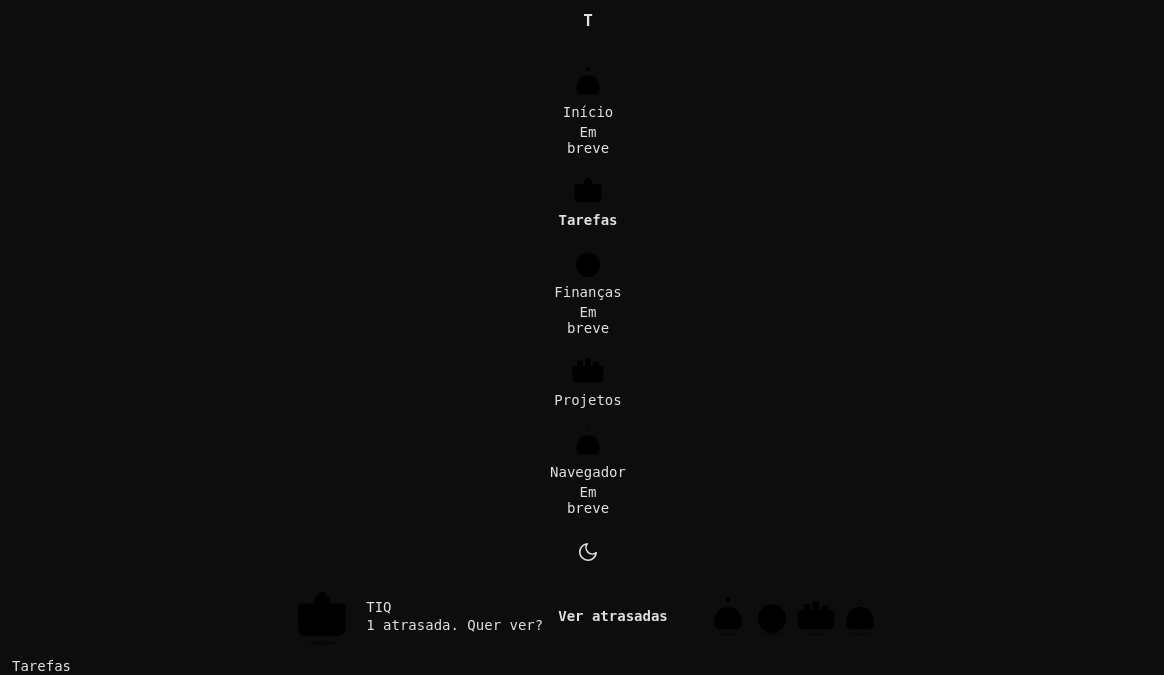
AppV3 › drives the island from the tasks data and falls back to the static phrase elsewhere
Expected: the message reads "1 atrasada. Quer ver?", [366,617,543,633]
Expected: the button "Ver atrasadas" is shown, [557,607,669,625]
What coordinates should you click on to do the following:
click the button with aria-label "Finanças, em breve"
I would click on:
 (588, 291)
Its box is [552,240,624,342].
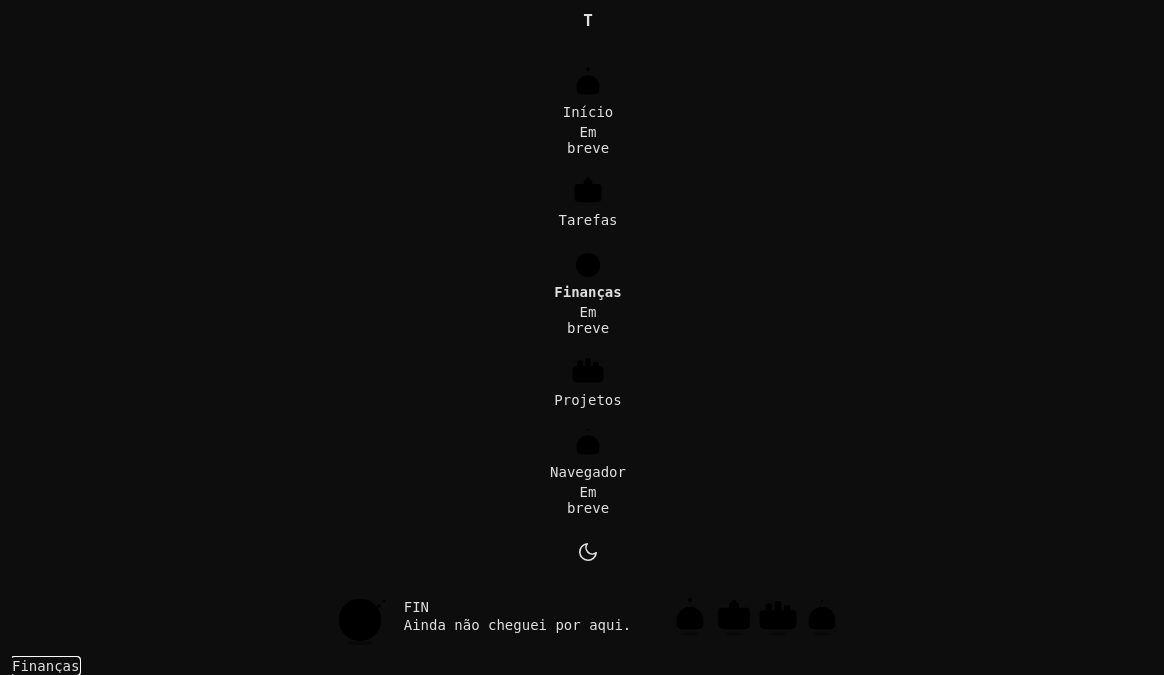
Expected: the message reads "Ainda não cheguei por aqui.", [404,617,631,633]
Expected: the button "Ver atrasadas" is gone
What coordinates should you click on to do the following:
click the button "Tarefas"
I would click on:
 (588, 201)
Its box is [552,168,624,234].
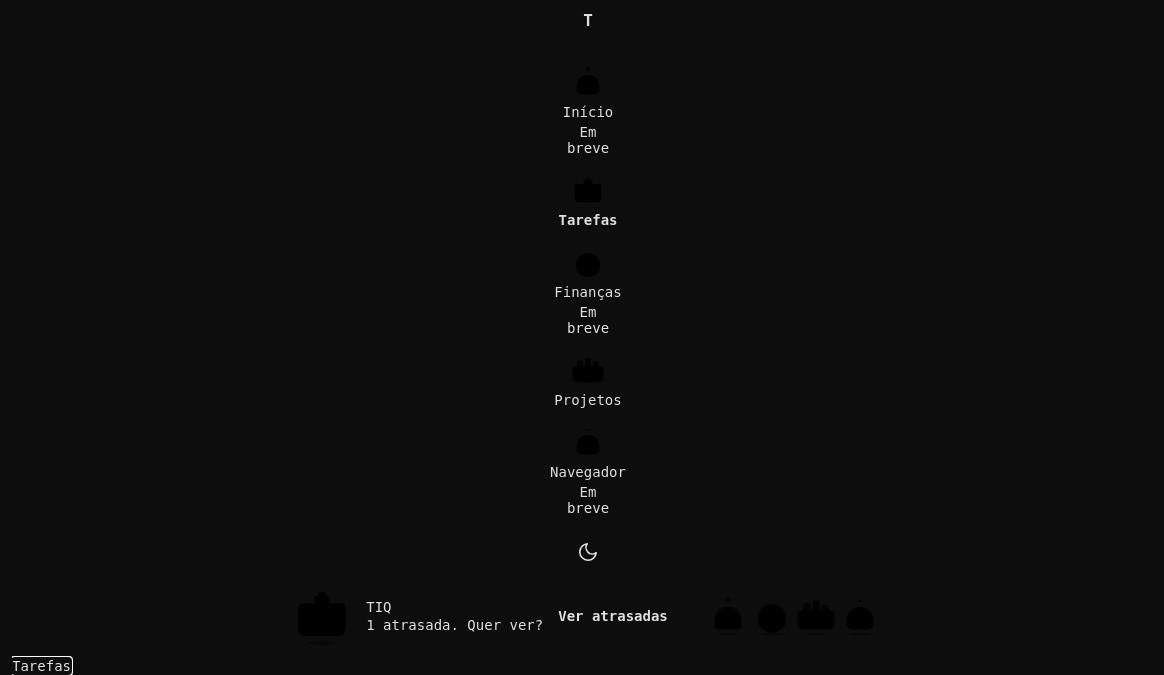
Expected: the message reads "1 atrasada. Quer ver?", [366,617,543,633]
